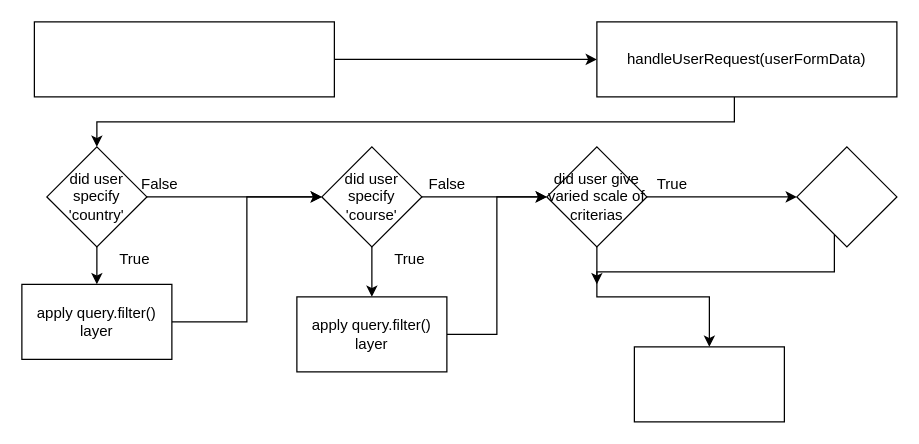
The diagram is 919 pixels wide and 444 high, and some of its shapes have lost their labels. The shapes that lost their labels are listed below. From the top down, each one's centre as x and y in pixels, then its label:
At point 183,59: "fills form and request recommendation".
At point 846,196: "Compute moderated university score".
At point 708,384: "Display Results".
